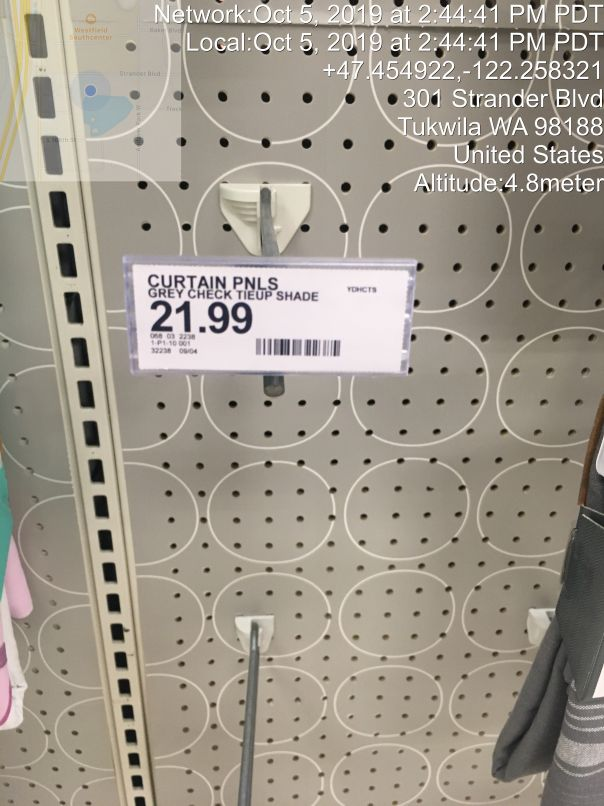Label: (116, 243, 430, 393)
Location: (392, 82, 604, 175)
Time: (148, 1, 604, 57)
Void: (121, 394, 430, 768)
